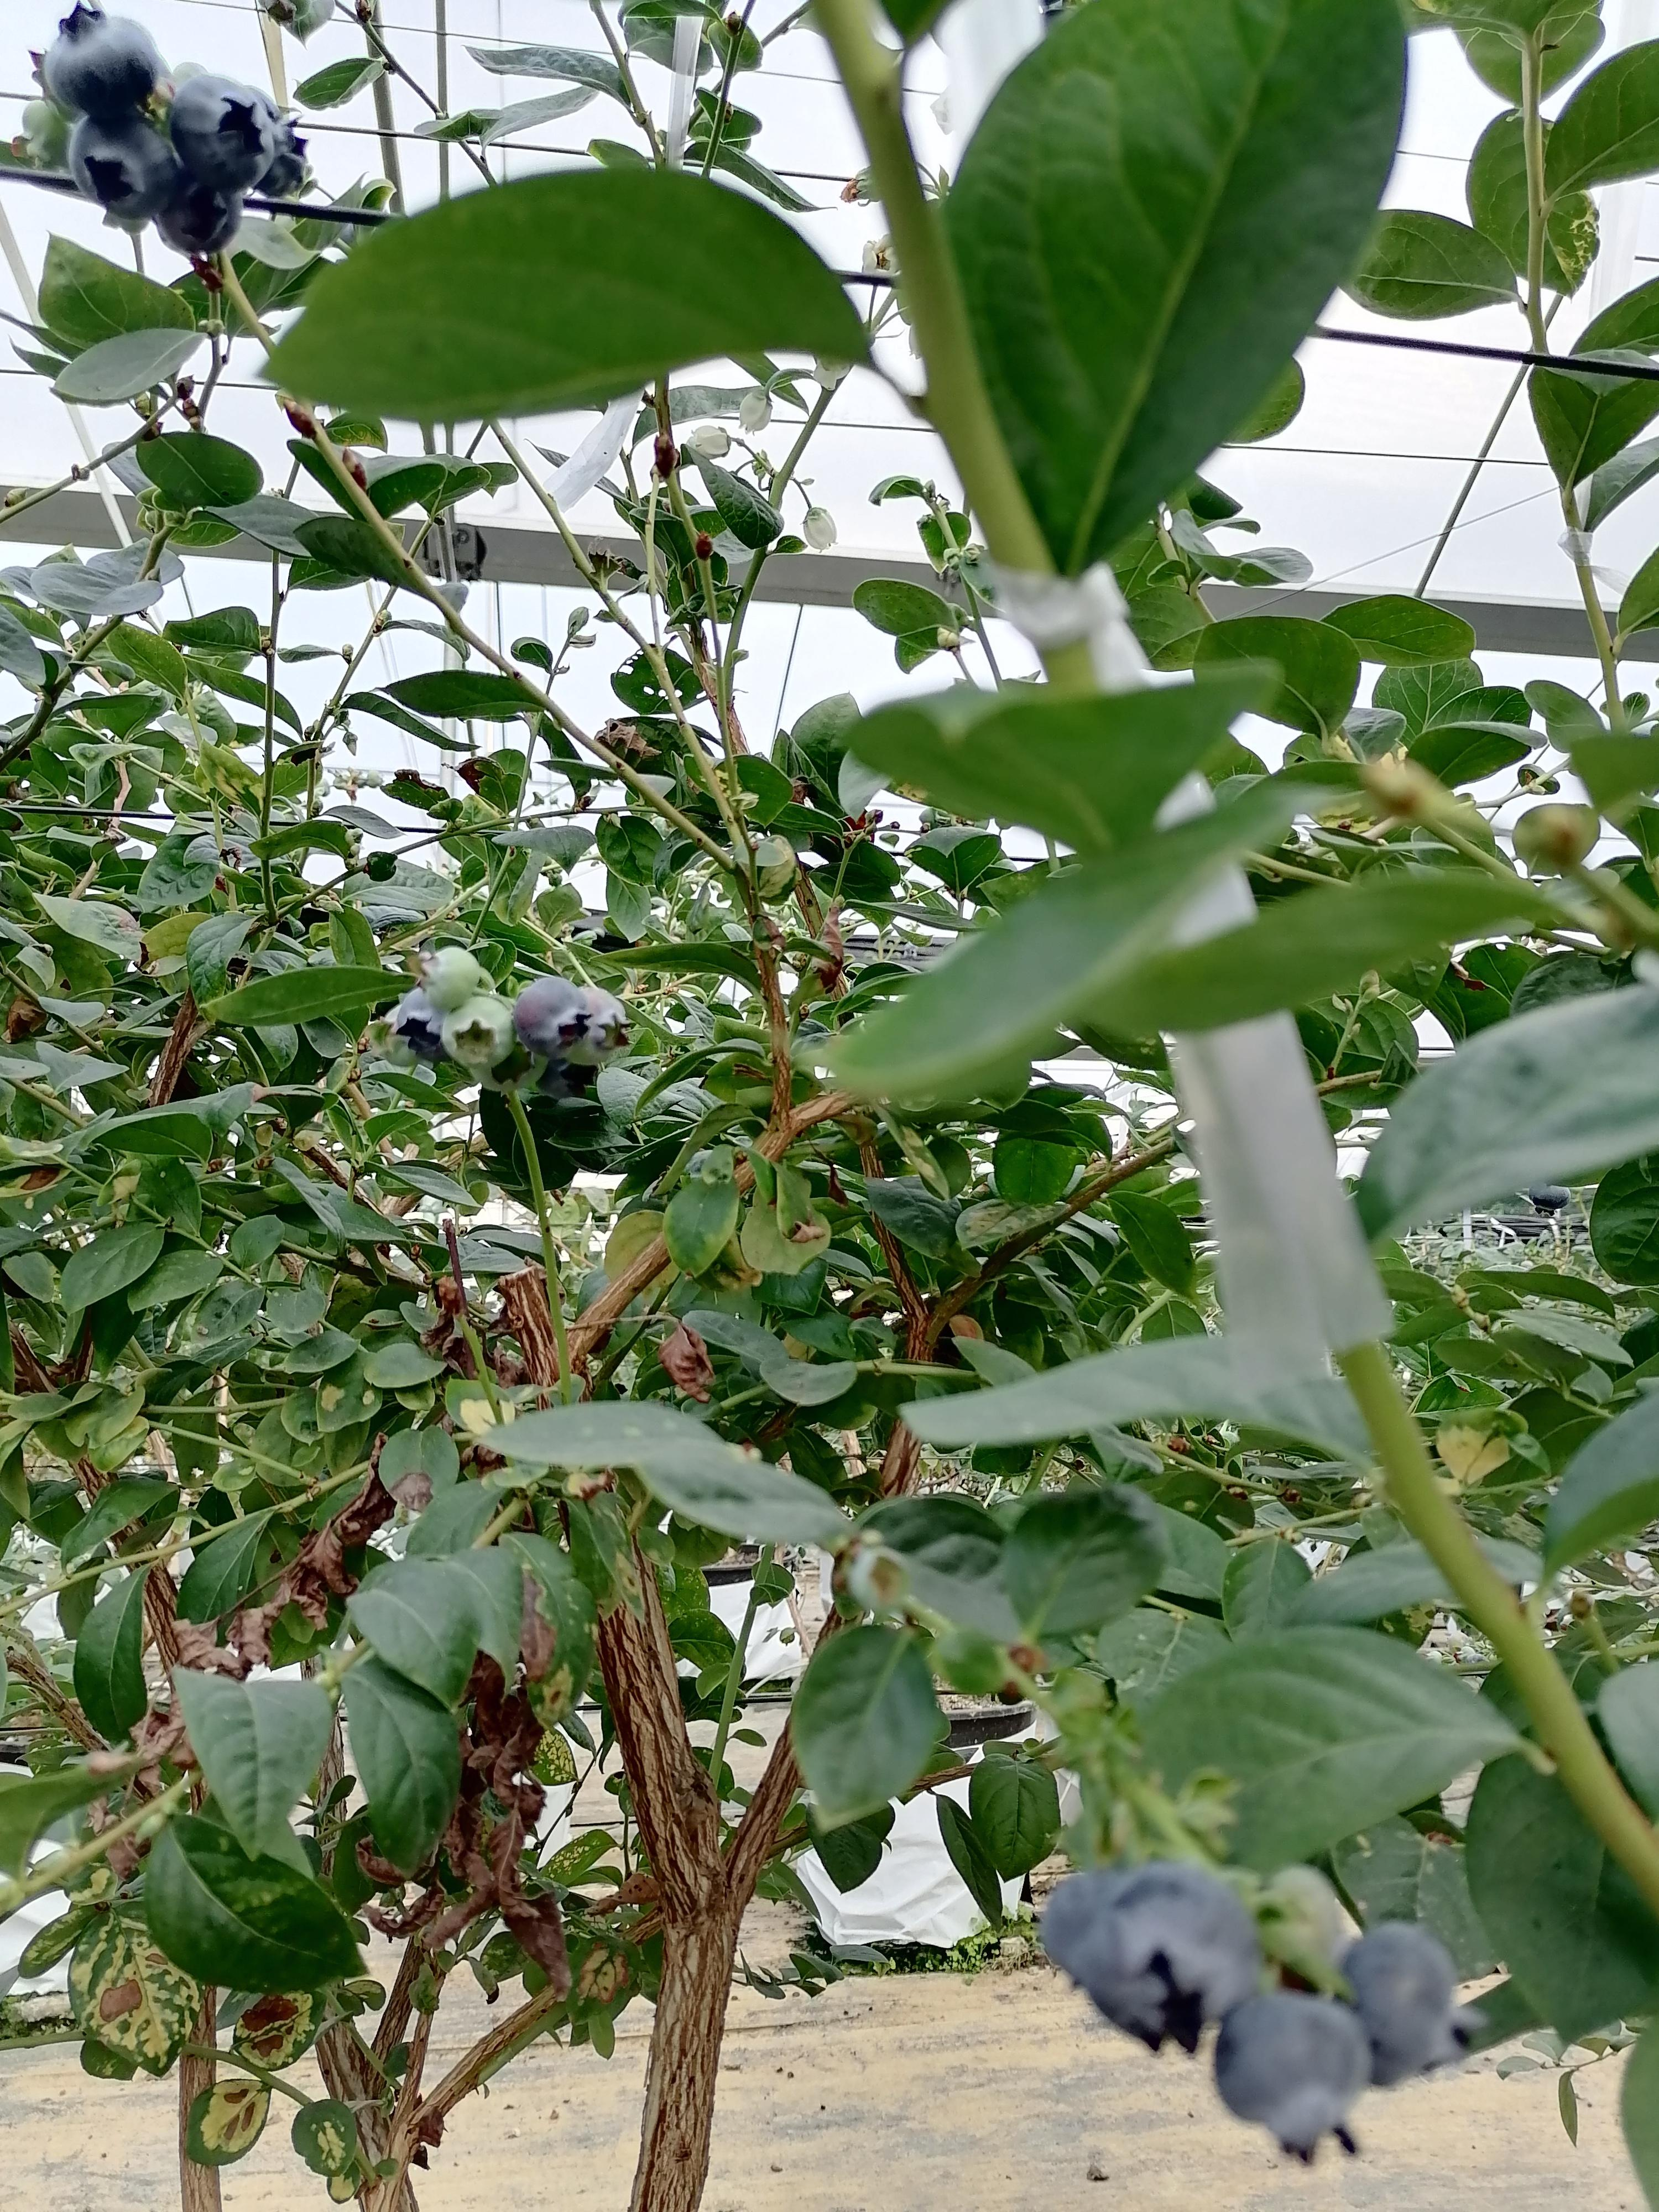ripe-blueberries: (1084, 1862, 1260, 2055), (1215, 1993, 1375, 2153), (1338, 1925, 1490, 2088), (1042, 1864, 1154, 1989), (169, 73, 275, 193), (45, 3, 159, 113), (70, 113, 178, 221), (153, 155, 244, 256), (249, 84, 308, 197), (511, 977, 592, 1057), (396, 988, 453, 1064)
